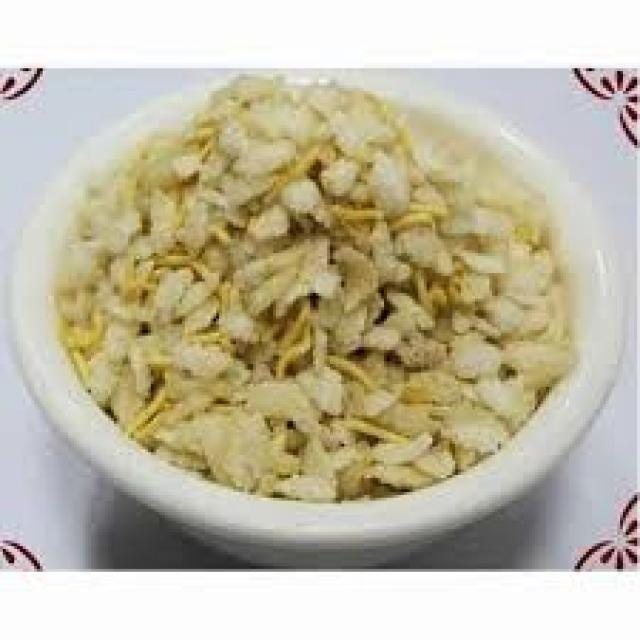POHA: (50, 71, 578, 505)
